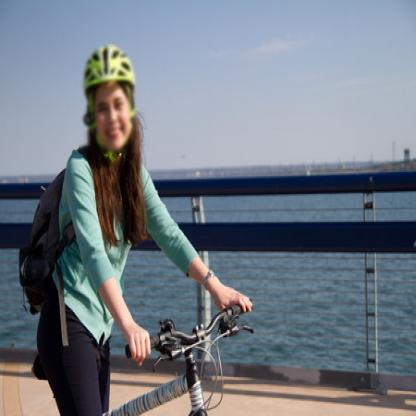With Helmet: (80, 44, 140, 154)
